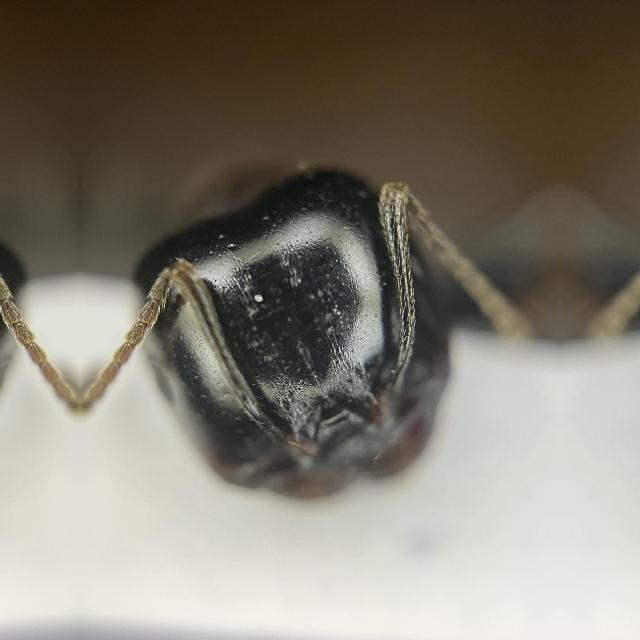Messor: (140, 155, 464, 501)
